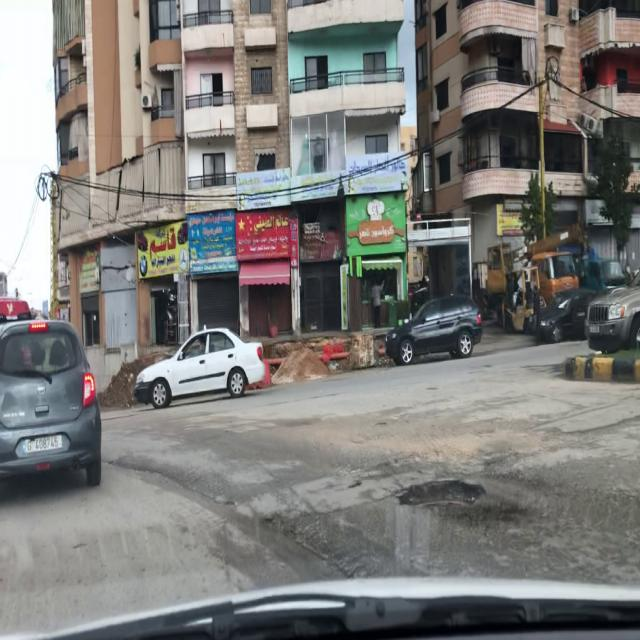Pothole: (396, 474, 486, 518)
